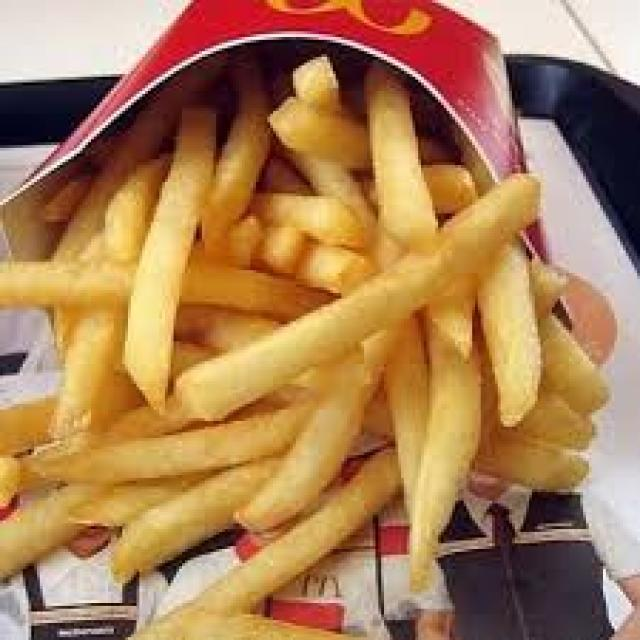감자튀김: (0, 0, 612, 640)
